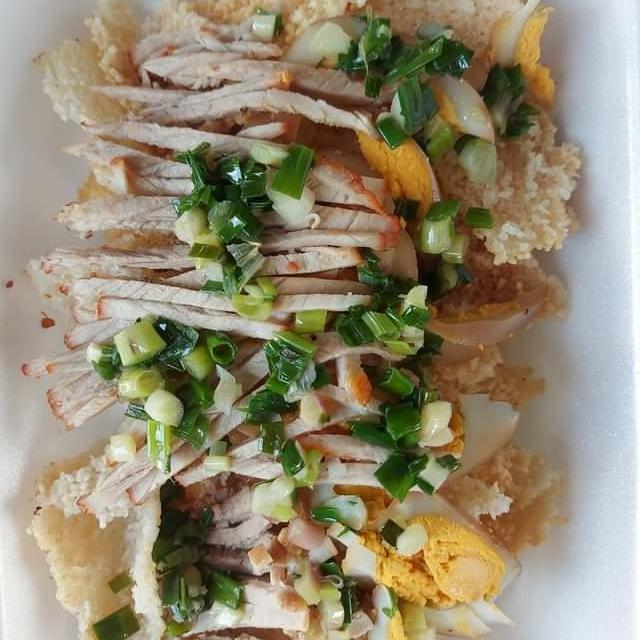com: (355, 0, 588, 272), (25, 0, 314, 143), (19, 419, 198, 640)
com suon trung: (0, 0, 615, 640)
suon: (10, 7, 421, 640)
trung: (317, 483, 524, 640), (344, 48, 501, 232)
